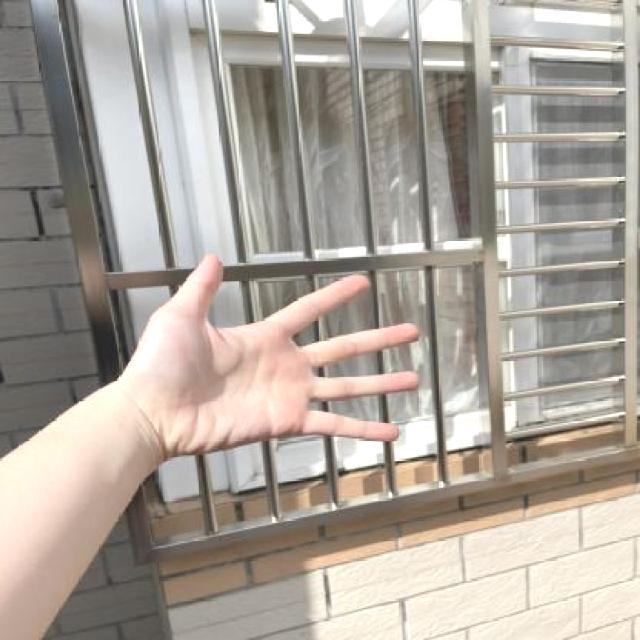no_glove: (107, 243, 438, 474)
